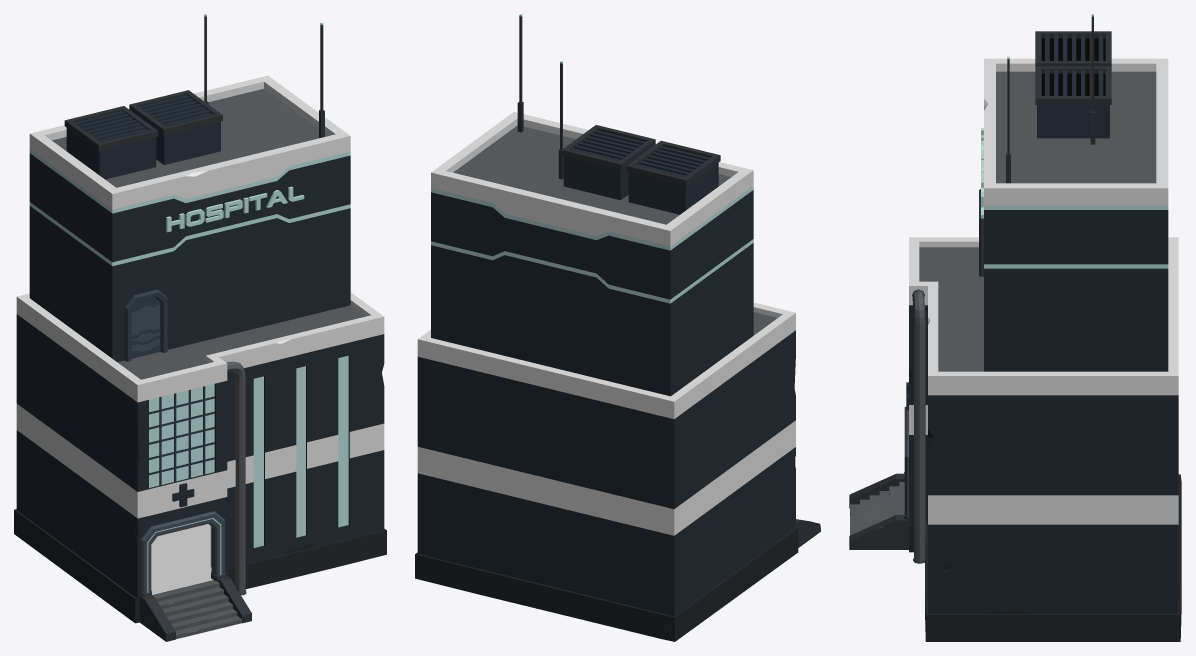
Rendered from SM_Building_04.fbx.
3 views of the same model, side by side, from view 1: azimuth 30°, elevation 25°; view 2: azimuth 150°, elevation 25°; view 3: azimuth 270°, elevation 25° (orthographic). The views are drawn at different scales.
Parts seen in each view (by area): view 1: SM_Building_04; view 2: SM_Building_04; view 3: SM_Building_04.
Boxes of the visible parts, box(x1,y1,x2,y2) form: SM_Building_04: box(14, 14, 386, 641); SM_Building_04: box(415, 14, 820, 641); SM_Building_04: box(849, 14, 1181, 641).
Size of the model in its own units: 1015 by 1914 by 1011.
